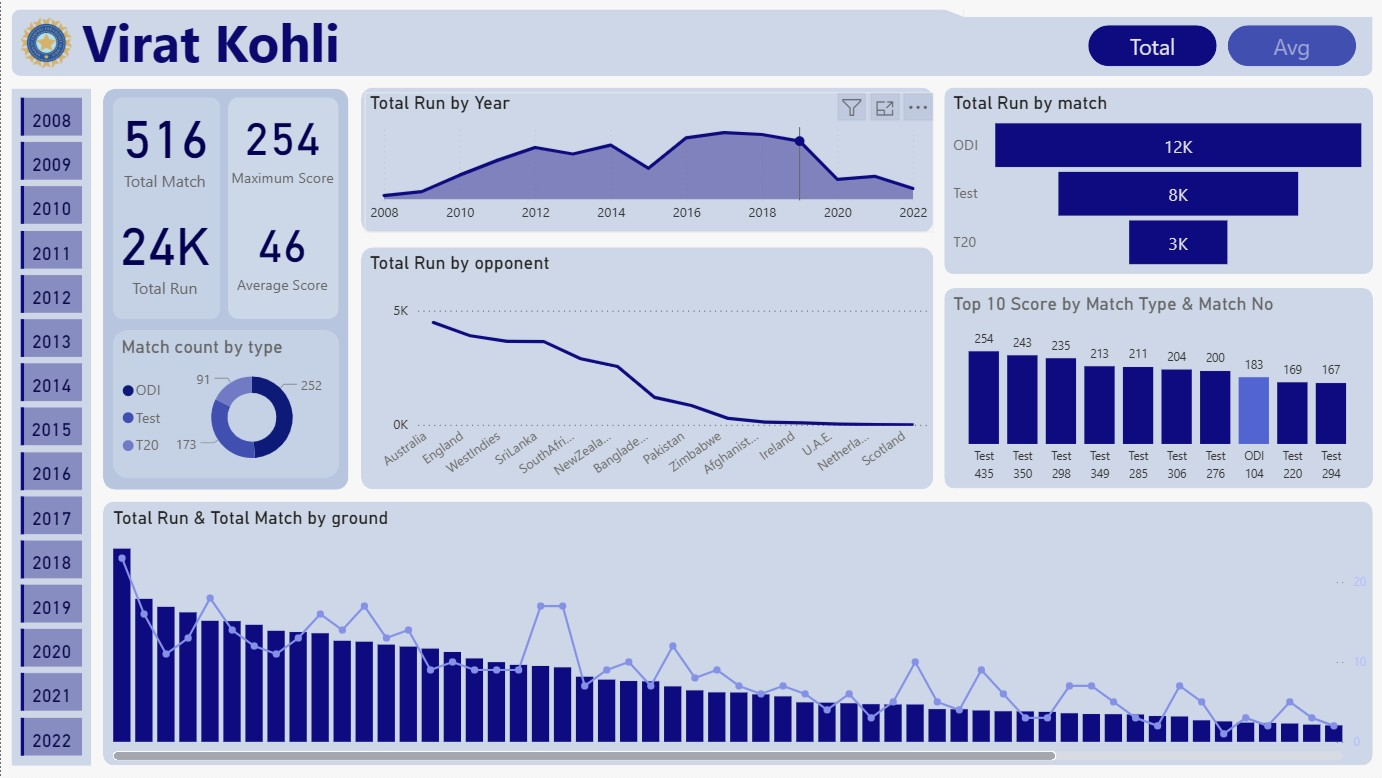

What the dashboard file says about the page in this screenshot:
{"tool":"powerbi","page":{"name":"Page 1","canvas":[1280,720],"ordinal":2},"visuals":[{"type":"shape","box":[0,0,1280.5,720],"z":0},{"type":"shape","box":[332.9,228.6,530,224.3],"z":1000},{"type":"shape","box":[332.9,81.4,530,134.3],"z":2000},{"type":"shape","box":[10,8.6,1260,61.4],"z":3000},{"type":"shape","box":[94.3,464.3,1175.7,244.3],"z":4000},{"type":"shape","box":[94.6,81.9,227.3,371.3],"z":6000},{"type":"shape","box":[102.9,305.7,210,137.1],"z":7000},{"type":"shape","box":[102.9,90,100,205.7],"z":8000},{"type":"card","fields":{"Values":["final.SUM OF RUN"]},"box":[94.3,185.7,114.3,92.9],"z":10000},{"type":"donutChart","title":"Match count by type","fields":{"Category":["final (1).match"],"Y":["CountNonNull(final.Match_No)"]},"box":[107.1,311.4,205.7,131.4],"z":10500},{"type":"card","title":"fff","fields":{"Values":["final.Total Match"]},"box":[94.3,81.4,114.3,104.3],"z":11000},{"type":"shape","box":[9.9,81.9,73.4,626.8],"z":12000},{"type":"shape","box":[210,90,102.9,205.7],"z":13000},{"type":"advancedSlicerVisual","fields":{"Values":["final (1).date.Variation.Date Hierarchy.Year"]},"box":[12.9,85.7,67.1,622.9],"z":14000},{"type":"shape","box":[872.9,81.4,397.1,172.9],"z":15000},{"type":"shape","box":[872.9,267.1,397.1,185.7],"z":18000},{"type":"columnChart","title":"Top 10 Score by Match Type & Match No","fields":{"Category":["final.Match_No","final.top 150 runs"],"Y":["Sum(final.runs)"],"Series":["final.top 150 runs"]},"box":[877.1,271.4,388.6,189],"z":19000},{"type":"card","title":"fff","fields":{"Values":["final.Minimum Score"]},"box":[195.7,81.4,130,104.3],"z":21000},{"type":"card","title":"fff","fields":{"Values":["final.Avg Run"]},"box":[195.7,180,130,104.3],"z":22000},{"type":"textbox","box":[70,1.4,582.9,80],"z":23000},{"type":"lineClusteredColumnComboChart","title":"Avg. Run & Total Match by ground","fields":{"Category":["final (1).ground"],"Y":["final.Avg Run"],"Y2":["final.Total Match"]},"box":[98.6,468.6,1171.4,240],"z":25000},{"type":"areaChart","title":"Avg Run by Year","fields":{"Category":["final.date.Variation.Date Hierarchy.Year"],"Y":["final.Avg Run"]},"box":[337.1,85.7,525.7,130],"z":26000},{"type":"lineChart","title":"Average Run  by opponent","fields":{"Category":["final (1).opponent"],"Y":["Avg(final.runs)"]},"box":[337.1,232.9,525.7,220],"z":27000},{"type":"funnel","title":"Average Run by match","fields":{"Category":["final (1).match"],"Y":["final.Avg Run"]},"box":[878.6,85.7,385.7,168.6],"z":28000},{"type":"image","box":[12.9,8.6,57.1,61.4],"z":30000},{"type":"shape","box":[851.4,0,40,15.7],"z":31000},{"type":"shape","box":[891.4,0,378.6,15.7],"z":32000},{"type":"bookmarkNavigator","box":[1007.1,22.9,248.6,38.6],"z":37000}]}

Visuals, with their boxes in screenshot pixels (x1, y1, x2, y2), scaled from the page's 1280x720 canvas onto the 1382x778 screenshot:
shape: detection(0, 0, 1381, 777)
shape: detection(359, 247, 932, 489)
shape: detection(359, 88, 932, 233)
shape: detection(11, 9, 1371, 76)
shape: detection(102, 502, 1371, 766)
shape: detection(102, 88, 348, 490)
shape: detection(111, 330, 338, 478)
shape: detection(111, 97, 219, 320)
card - final.SUM OF RUN: detection(102, 201, 225, 301)
"Match count by type" donutChart: detection(116, 336, 338, 478)
"fff" card: detection(102, 88, 225, 201)
shape: detection(11, 88, 90, 766)
shape: detection(227, 97, 338, 320)
advancedSlicerVisual - final (1).date.Variation.Date Hierarchy.Year: detection(14, 93, 86, 766)
shape: detection(942, 88, 1371, 275)
shape: detection(942, 289, 1371, 489)
"Top 10 Score by Match Type & Match No" columnChart: detection(947, 293, 1367, 497)
"fff" card: detection(211, 88, 352, 201)
"fff" card: detection(211, 194, 352, 307)
textbox: detection(76, 2, 705, 88)
"Avg. Run & Total Match by ground" lineClusteredColumnComboChart: detection(106, 506, 1371, 766)
"Avg Run by Year" areaChart: detection(364, 93, 932, 233)
"Average Run  by opponent" lineChart: detection(364, 252, 932, 489)
"Average Run by match" funnel: detection(949, 93, 1365, 275)
image: detection(14, 9, 76, 76)
shape: detection(919, 0, 962, 17)
shape: detection(962, 0, 1371, 17)
bookmarkNavigator: detection(1087, 25, 1356, 66)
